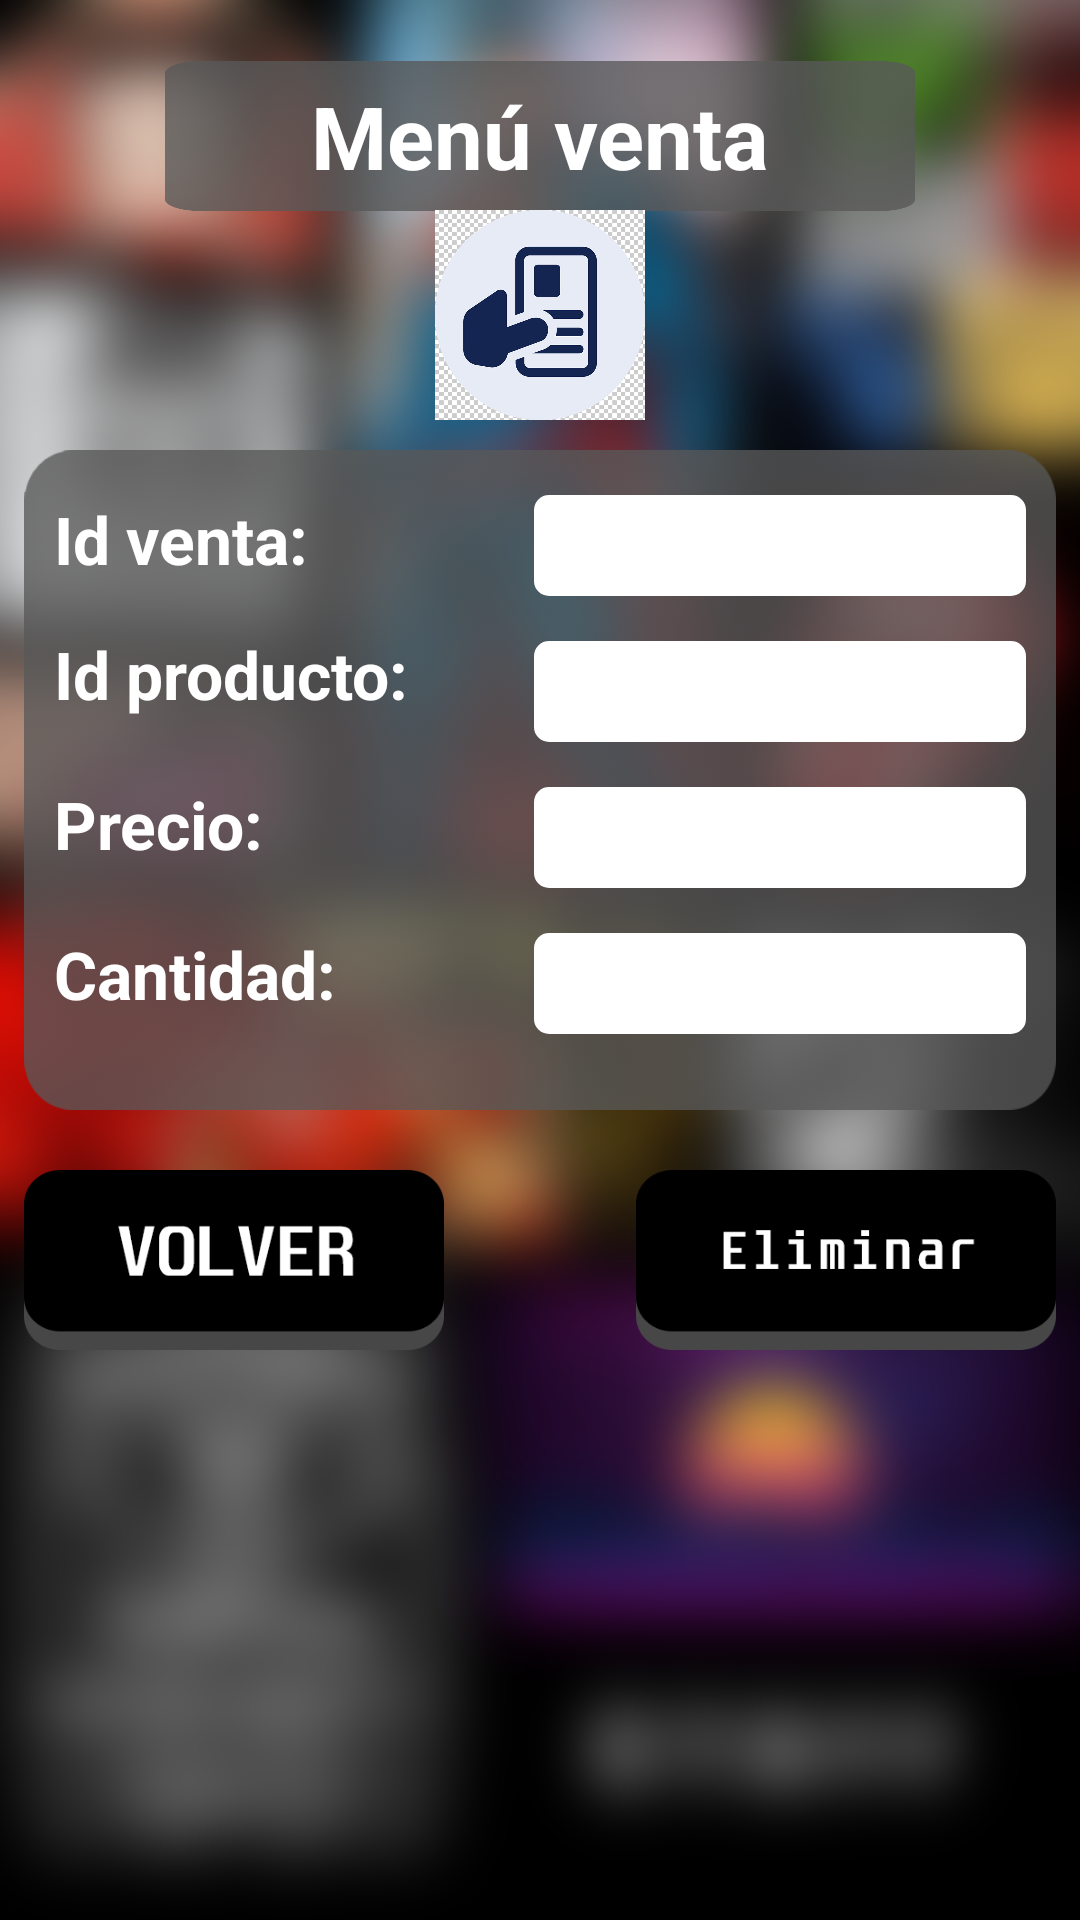

Icons on this 1080w x 1920h Android screen, each with the point to tap as (x=x, y=y):
iconboleta: (x=540, y=315)
